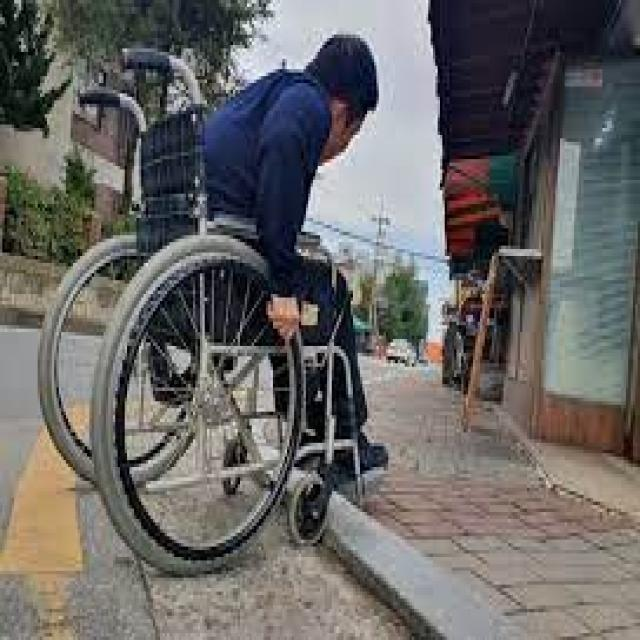wheelchair: (40, 31, 390, 574)
